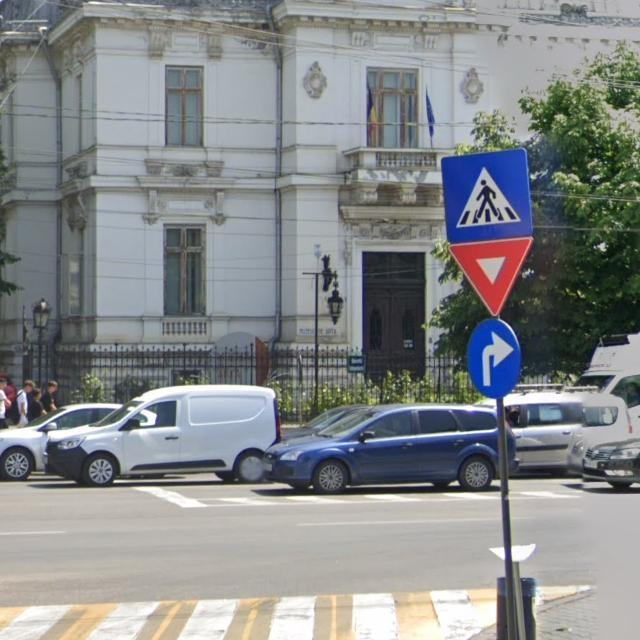info_crosswalk: (442, 149, 535, 237)
prio_give_way: (449, 238, 536, 317)
